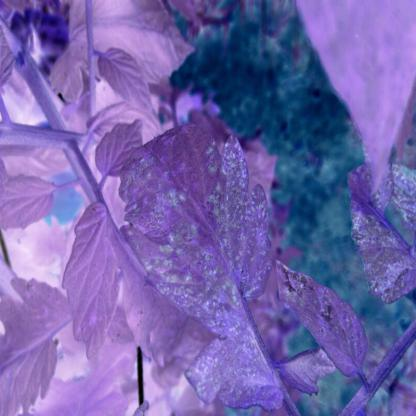Tomato Septoria leaf spot: (121, 131, 264, 324), (280, 256, 364, 378), (175, 337, 323, 401)
